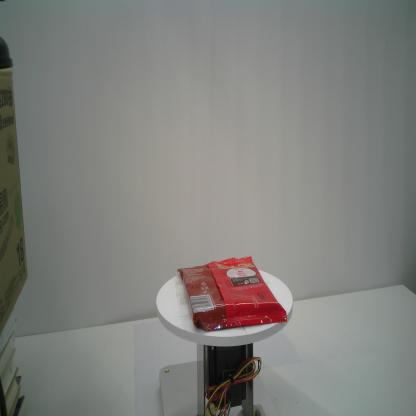Dessert: (177, 256, 287, 332)
